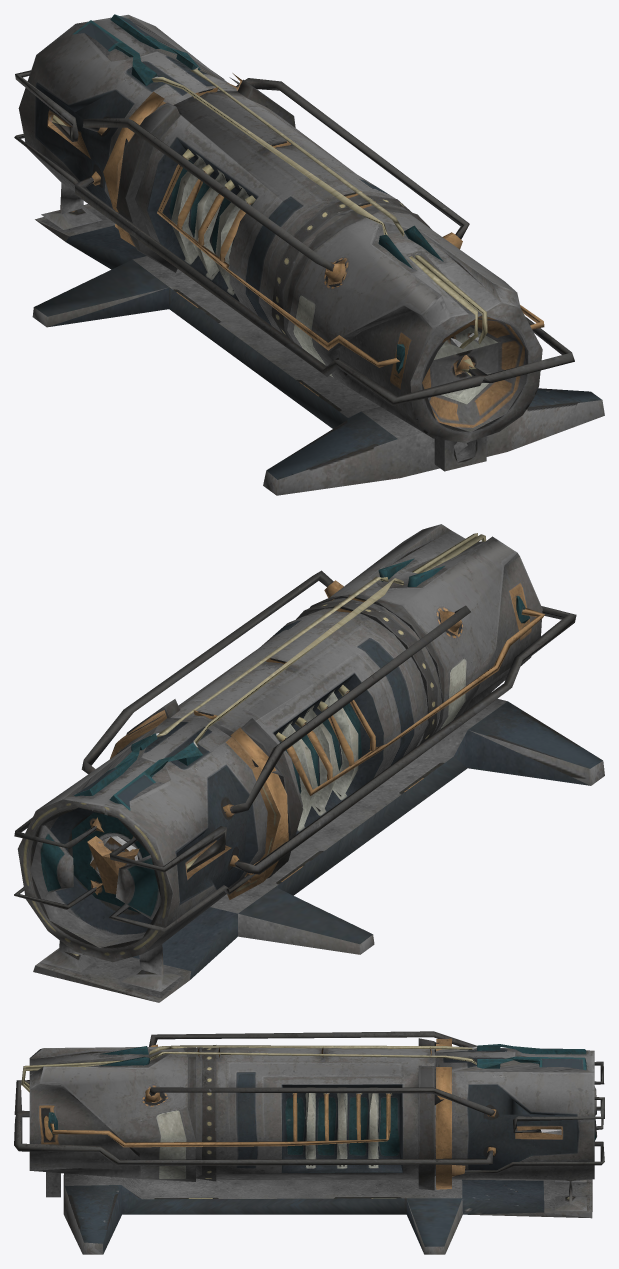
The model's file is Cap_Tank_new.glb.
3 views of the same model, one above another, from view 1: azimuth 30°, elevation 25°; view 2: azimuth 150°, elevation 25°; view 3: azimuth 270°, elevation 25° (orthographic). The views are drawn at different scales.
Visible parts, largest first — view 1: device96; view 2: device96; view 3: device96.
Boxes of the visible parts, bbox=[...] form: device96: bbox=[14, 14, 604, 495]; device96: bbox=[14, 524, 604, 1002]; device96: bbox=[14, 1031, 604, 1254].
Bounding box in the file's own units: 8.49 × 4.88 × 17.84.
1 material, 1 textured.
